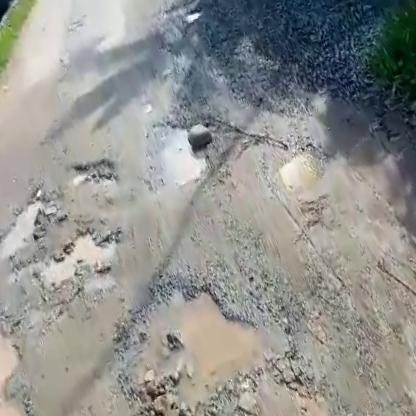pothole: (92, 243, 323, 416), (18, 201, 134, 298), (134, 109, 214, 197), (267, 138, 335, 203), (0, 189, 55, 258), (0, 314, 30, 399)
